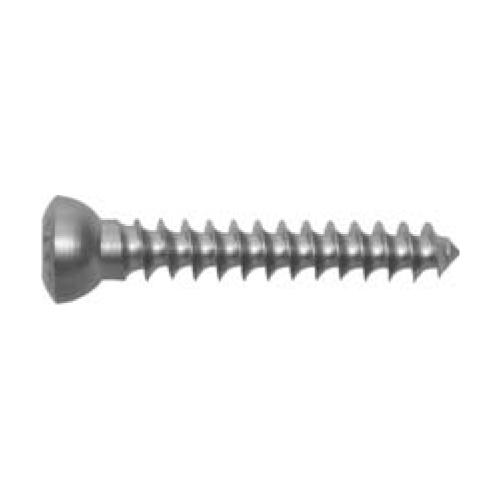Tornillo: (36, 192, 463, 307)
